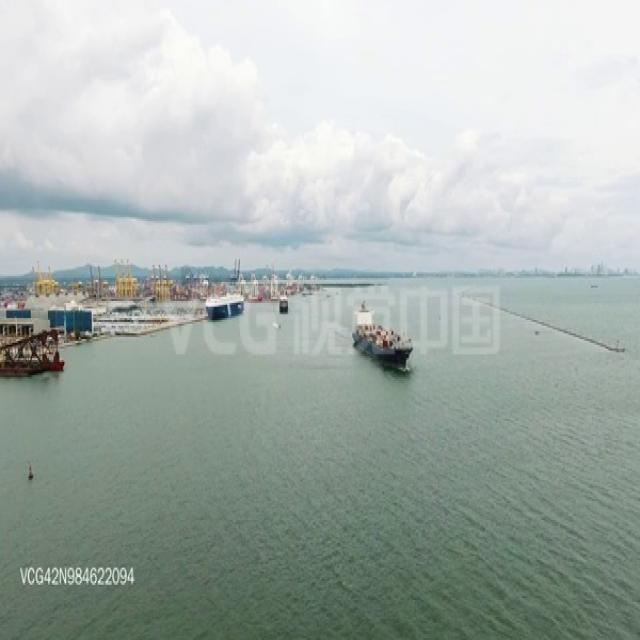cargoship: (347, 296, 416, 371)
